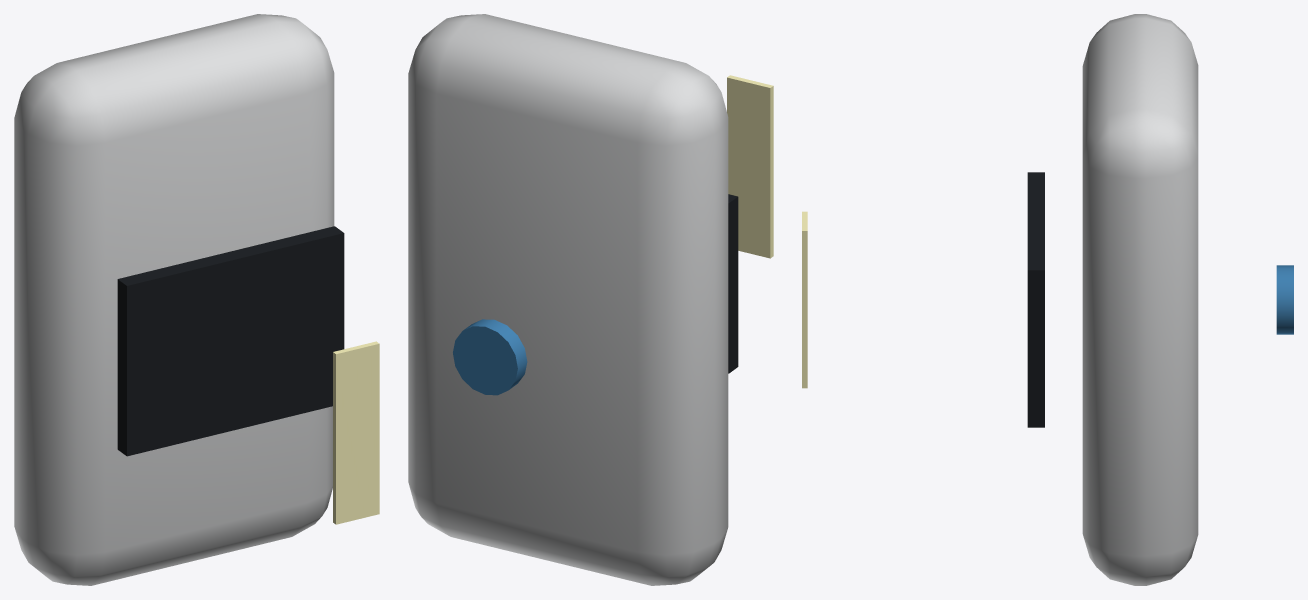
Rendered from glucometre.glb.
3 renders of one model, left to right at view 1: azimuth 30°, elevation 25°; view 2: azimuth 150°, elevation 25°; view 3: azimuth 270°, elevation 25°, orthographic. The views are drawn at different scales.
Parts seen in each view (by area): view 1: glucometre, Ecran; view 2: glucometre, Ecran; view 3: glucometre, Ecran.
Part boxes in pixels (box(x1,y1,x2,y2)): glucometre: box(14, 14, 379, 585); Ecran: box(117, 226, 344, 456); glucometre: box(408, 14, 773, 585); Ecran: box(728, 194, 738, 373); glucometre: box(802, 14, 1293, 585); Ecran: box(1027, 172, 1044, 427).
Size of the model in its own units: 0.055 by 0.09 by 0.085.
